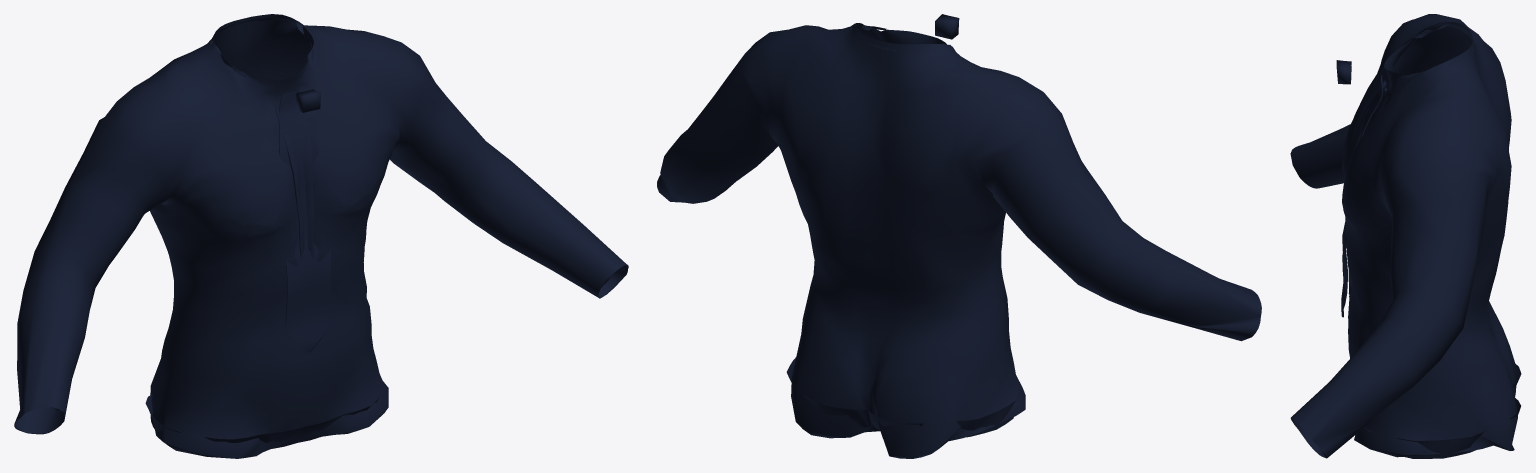
Rendered from suit_jacket.glb.
3 renders of one model, left to right at view 1: azimuth 30°, elevation 25°; view 2: azimuth 150°, elevation 25°; view 3: azimuth 270°, elevation 25°, orthographic. The views are drawn at different scales.
Visible parts, largest first — view 1: suit_jacket; view 2: suit_jacket; view 3: suit_jacket.
Boxes of the visible parts, left/top/right/bottom form: suit_jacket: left=14, top=14, right=628, bottom=458; suit_jacket: left=657, top=14, right=1261, bottom=458; suit_jacket: left=1290, top=14, right=1521, bottom=458.
Size of the model in its own units: 1.08 by 0.6793 by 0.3635.
